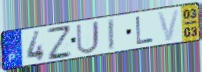4: (25, 29, 46, 62)
I: (106, 17, 116, 52)
L: (134, 16, 155, 46)
U: (75, 19, 101, 55)
V: (156, 8, 181, 43)
Z: (46, 25, 74, 62)
